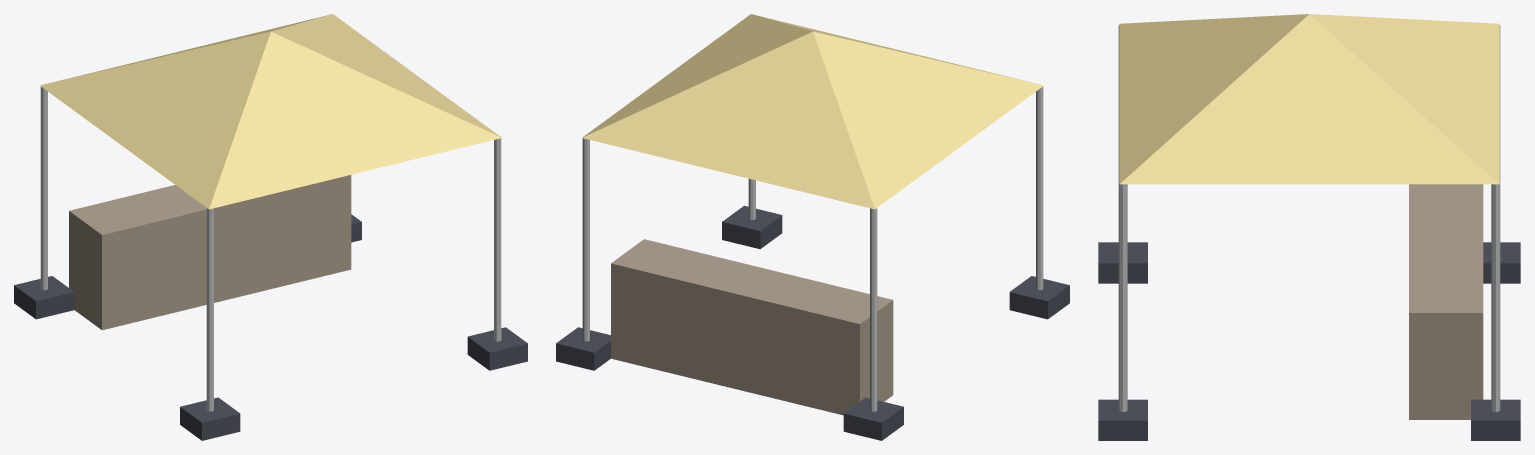
File: SM_Tonnelle_buvette.glb
3 views of the same model, side by side, from view 1: azimuth 30°, elevation 25°; view 2: azimuth 150°, elevation 25°; view 3: azimuth 270°, elevation 25° (orthographic). The views are drawn at different scales.
Parts seen in each view (by area): view 1: SM_Tonnelle_buvette_4, SM_Tonnelle_buvette_5, SM_Tonnelle_buvette_7, SM_Tonnelle_buvette_9, SM_Tonnelle_buvette_6, SM_Tonnelle_buvette_1, SM_Tonnelle_buvette_3, SM_Tonnelle_buvette_0; view 2: SM_Tonnelle_buvette_4, SM_Tonnelle_buvette_5, SM_Tonnelle_buvette_6, SM_Tonnelle_buvette_9, SM_Tonnelle_buvette_7, SM_Tonnelle_buvette_8, SM_Tonnelle_buvette_0, SM_Tonnelle_buvette_2, SM_Tonnelle_buvette_1; view 3: SM_Tonnelle_buvette_4, SM_Tonnelle_buvette_5, SM_Tonnelle_buvette_2, SM_Tonnelle_buvette_3, SM_Tonnelle_buvette_8, SM_Tonnelle_buvette_9, SM_Tonnelle_buvette_7, SM_Tonnelle_buvette_6.
Boxes of the visible parts, left/top/right/bottom form: SM_Tonnelle_buvette_4: left=40, top=14, right=501, bottom=209; SM_Tonnelle_buvette_5: left=69, top=175, right=351, bottom=330; SM_Tonnelle_buvette_7: left=180, top=397, right=240, bottom=440; SM_Tonnelle_buvette_9: left=467, top=327, right=527, bottom=370; SM_Tonnelle_buvette_6: left=14, top=276, right=74, bottom=319; SM_Tonnelle_buvette_1: left=206, top=208, right=213, bottom=411; SM_Tonnelle_buvette_3: left=494, top=136, right=501, bottom=341; SM_Tonnelle_buvette_0: left=40, top=84, right=47, bottom=290; SM_Tonnelle_buvette_4: left=582, top=14, right=1043, bottom=209; SM_Tonnelle_buvette_5: left=611, top=239, right=893, bottom=415; SM_Tonnelle_buvette_6: left=843, top=397, right=903, bottom=440; SM_Tonnelle_buvette_9: left=722, top=205, right=782, bottom=249; SM_Tonnelle_buvette_7: left=1009, top=276, right=1069, bottom=319; SM_Tonnelle_buvette_8: left=556, top=327, right=610, bottom=370; SM_Tonnelle_buvette_0: left=870, top=208, right=877, bottom=411; SM_Tonnelle_buvette_2: left=582, top=136, right=589, bottom=341; SM_Tonnelle_buvette_1: left=1036, top=84, right=1043, bottom=290; SM_Tonnelle_buvette_4: left=1119, top=14, right=1499, bottom=184; SM_Tonnelle_buvette_5: left=1409, top=184, right=1483, bottom=419; SM_Tonnelle_buvette_2: left=1491, top=182, right=1500, bottom=411; SM_Tonnelle_buvette_3: left=1118, top=182, right=1127, bottom=411; SM_Tonnelle_buvette_8: left=1471, top=399, right=1520, bottom=440; SM_Tonnelle_buvette_9: left=1098, top=399, right=1147, bottom=440; SM_Tonnelle_buvette_7: left=1098, top=242, right=1147, bottom=283; SM_Tonnelle_buvette_6: left=1483, top=242, right=1520, bottom=283.
Bounding box in the file's own units: 3.4 × 3 × 3.4.
